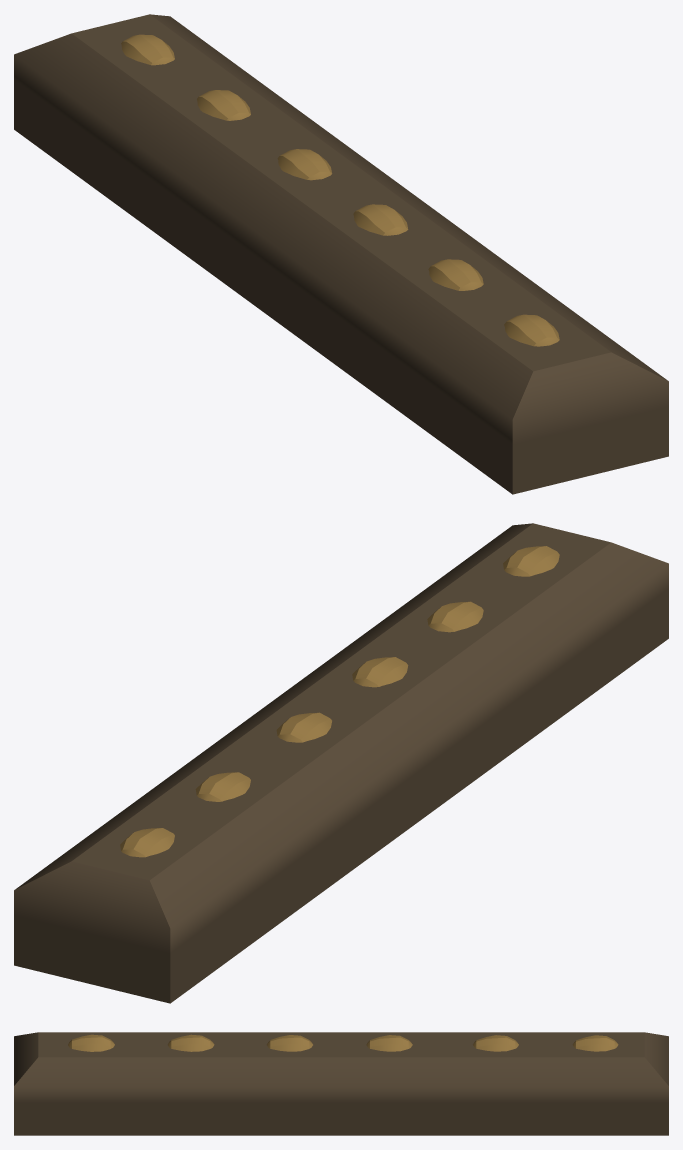
Rendered from garden_potato.fbx.
3 views of the same model, one above another, from view 1: azimuth 30°, elevation 25°; view 2: azimuth 150°, elevation 25°; view 3: azimuth 270°, elevation 25° (orthographic). The views are drawn at different scales.
Parts seen in each view (by area): view 1: pCube1, pCylinder7, pCylinder8, pCylinder5, pCylinder6, pCylinder4, pCylinder3; view 2: pCube1, pCylinder7, pCylinder8, pCylinder5, pCylinder6, pCylinder4, pCylinder3; view 3: pCube1, pCylinder7, pCylinder8, pCylinder5, pCylinder6, pCylinder4, pCylinder3.
Part boxes in pixels (x1,y1,x2,y2): pCube1: (14, 14, 668, 494); pCylinder7: (504, 314, 559, 346); pCylinder8: (428, 259, 483, 290); pCylinder5: (353, 204, 408, 235); pCylinder6: (277, 149, 332, 180); pCylinder4: (197, 90, 250, 120); pCylinder3: (121, 34, 174, 65); pCube1: (14, 523, 668, 1003); pCylinder7: (503, 546, 559, 576); pCylinder8: (427, 601, 483, 632); pCylinder5: (352, 657, 408, 687); pCylinder6: (276, 712, 331, 742); pCylinder4: (195, 772, 250, 801); pCylinder3: (120, 828, 174, 857); pCube1: (14, 1032, 668, 1135); pCylinder7: (68, 1034, 114, 1051); pCylinder8: (167, 1034, 214, 1051); pCylinder5: (266, 1035, 312, 1051); pCylinder6: (366, 1035, 412, 1051); pCylinder4: (473, 1035, 518, 1051); pCylinder3: (572, 1035, 618, 1051).
Size of the model in its own units: 1.18 by 0.8049 by 6.51.
